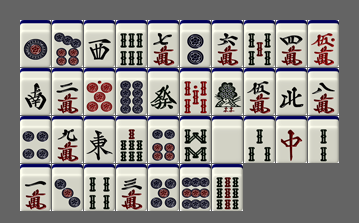0m: (308, 20, 339, 67)
0p: (84, 68, 115, 115)
0s: (180, 68, 211, 115)
1m: (20, 164, 51, 211)
1p: (20, 20, 51, 67)
1s: (212, 68, 243, 115)
1z: (84, 116, 115, 163)
2m: (52, 68, 83, 115)
2p: (180, 20, 211, 67)
2s: (308, 116, 339, 163)
2z: (20, 68, 51, 115)
3m: (116, 164, 147, 211)
3p: (52, 164, 83, 211)
3s: (244, 116, 275, 163)
3z: (84, 20, 115, 67)
4m: (276, 20, 307, 67)
4p: (20, 116, 51, 163)
4s: (84, 164, 115, 211)
4z: (276, 68, 307, 115)
5m: (244, 68, 275, 115)
5p: (148, 164, 179, 211)
5s: (244, 20, 275, 67)
5z: (212, 116, 243, 163)
6m: (212, 20, 243, 67)
6p: (148, 116, 179, 163)
6s: (116, 20, 147, 67)
6z: (148, 68, 179, 115)
7m: (148, 20, 179, 67)
7p: (52, 20, 83, 67)
7s: (116, 116, 147, 163)
7z: (276, 116, 307, 163)
8m: (308, 68, 339, 115)
8p: (116, 68, 147, 115)
8s: (180, 116, 211, 163)
9m: (52, 116, 83, 163)
9p: (180, 164, 211, 211)
9s: (212, 164, 243, 211)
